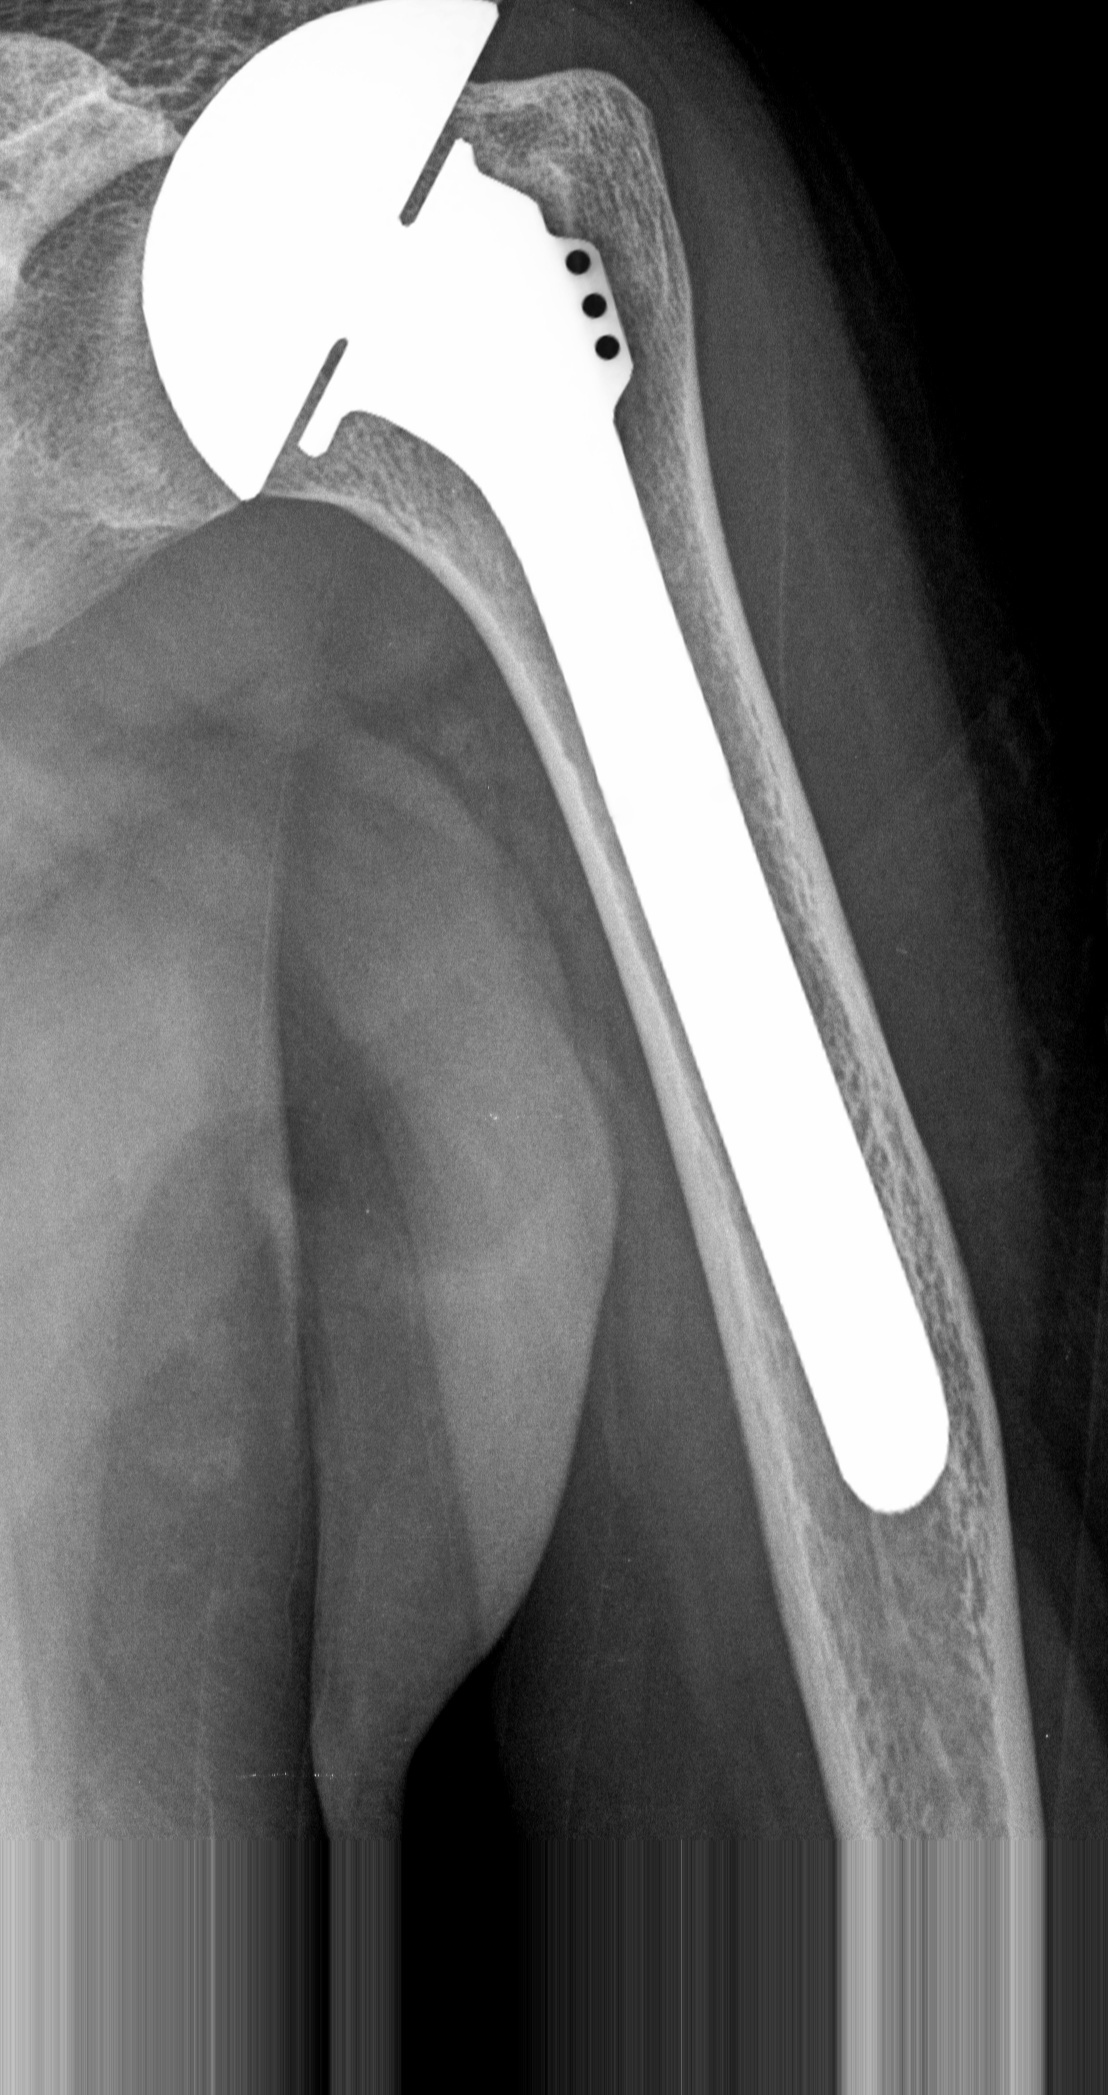Shoulder-Olympia-Wright: (102, 1, 969, 1526)
